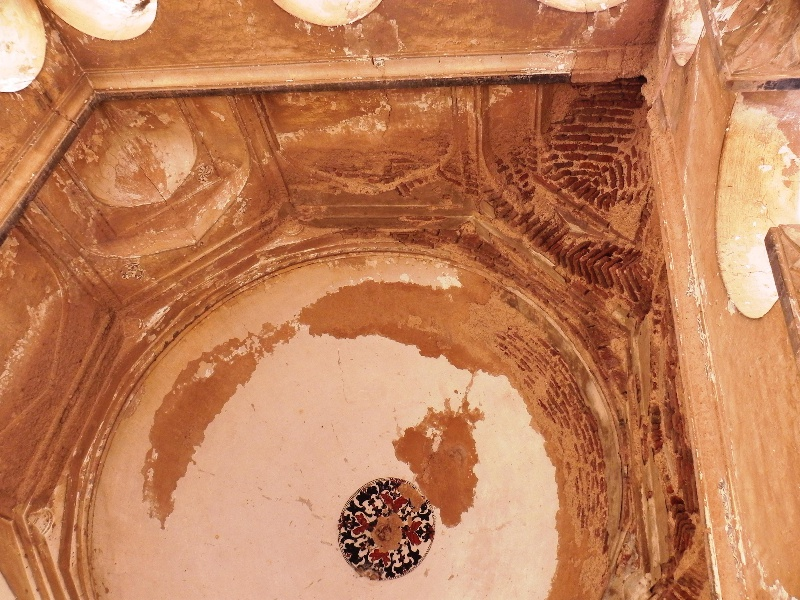Exposed Bricks: (486, 87, 656, 310), (520, 336, 602, 463)
Spalling: (142, 330, 284, 519)
